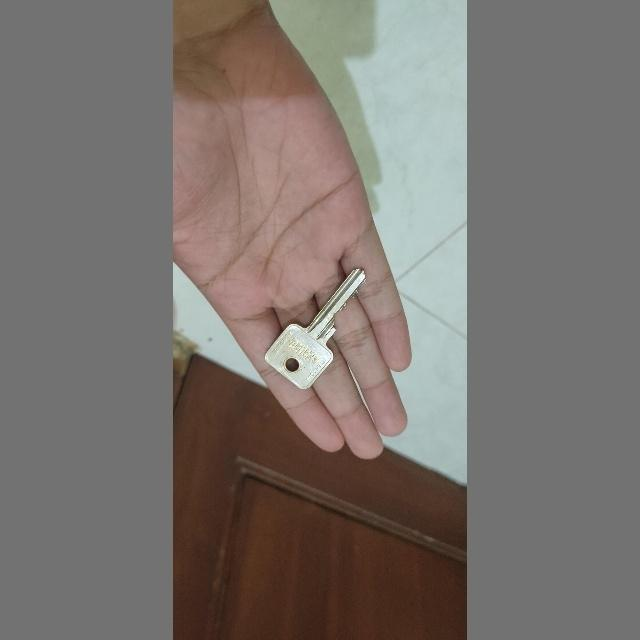Keys: (258, 264, 372, 392)
